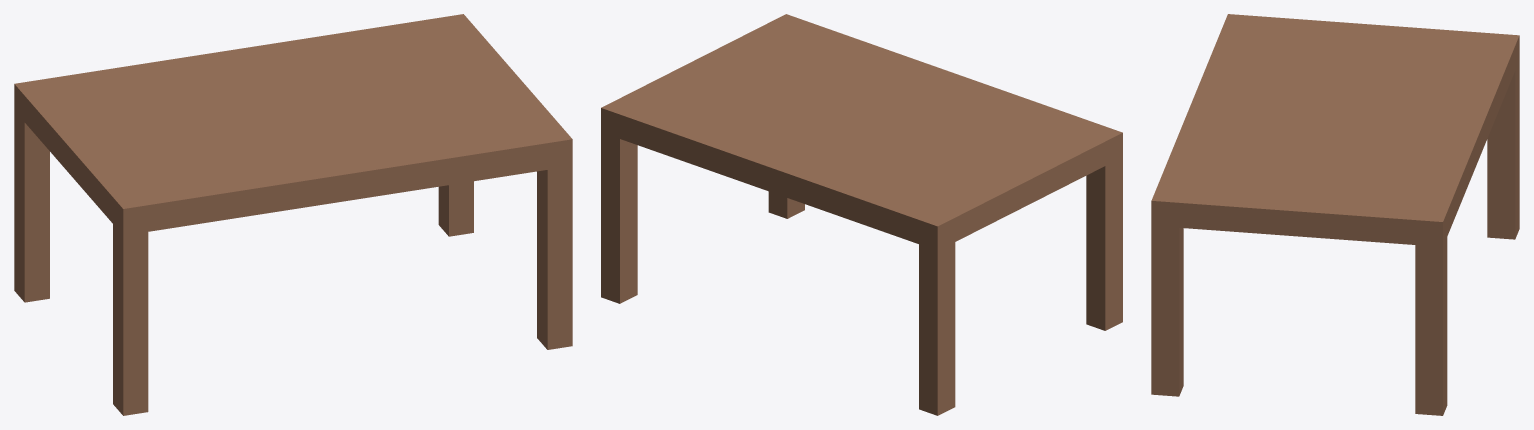
The model's file is Table2.fbx.
3 views of the same model, side by side, from view 1: azimuth 30°, elevation 25°; view 2: azimuth 150°, elevation 25°; view 3: azimuth 270°, elevation 25° (orthographic). The views are drawn at different scales.
Visible parts, largest first — view 1: Table2; view 2: Table2; view 3: Table2.
Boxes of the visible parts, box(x1,y1,x2,y2) form: Table2: box(14, 14, 572, 415); Table2: box(601, 14, 1122, 415); Table2: box(1151, 14, 1519, 415).
Bounding box in the file's own units: 333 × 145 × 249.
